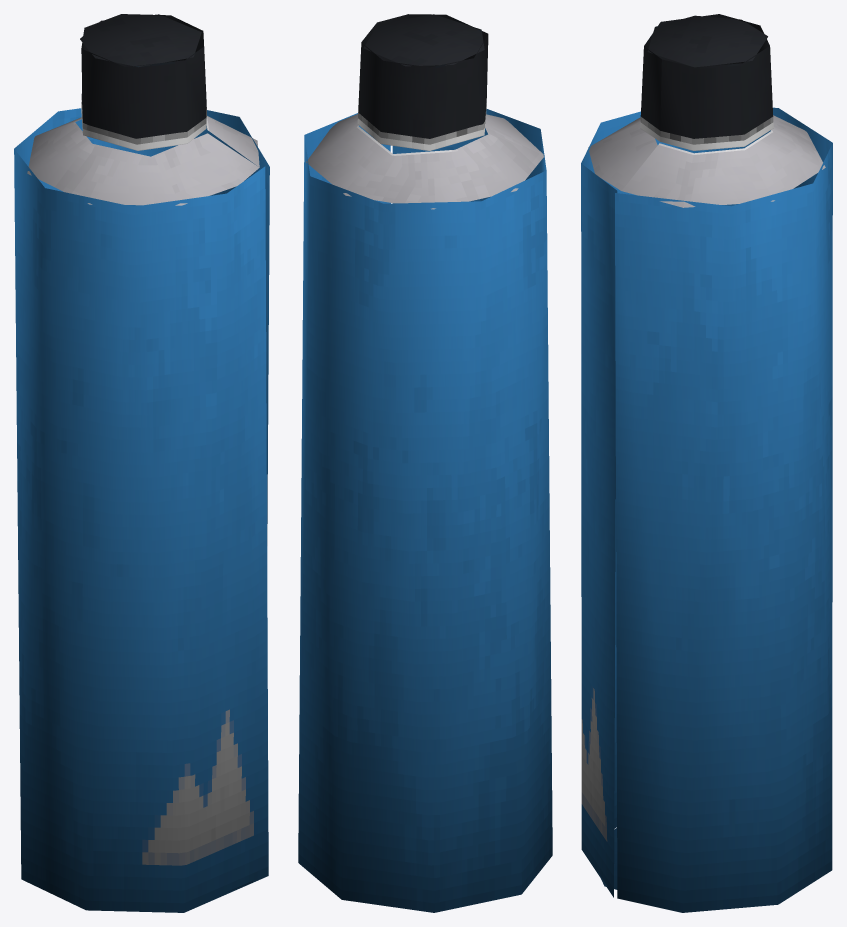
File: thermal_bottle.glb
3 views of the same model, side by side, from view 1: azimuth 30°, elevation 25°; view 2: azimuth 150°, elevation 25°; view 3: azimuth 270°, elevation 25° (orthographic).
Parts seen in each view (by area): view 1: ThermalBottle.001; view 2: ThermalBottle.001; view 3: ThermalBottle.001.
Part boxes in pixels (<box>): ThermalBottle.001: <box>14,14,269,912</box>; ThermalBottle.001: <box>298,14,552,912</box>; ThermalBottle.001: <box>581,14,832,912</box>.
Size of the model in its own units: 0.0559 by 0.2011 by 0.0559.
1 material, 1 textured.
